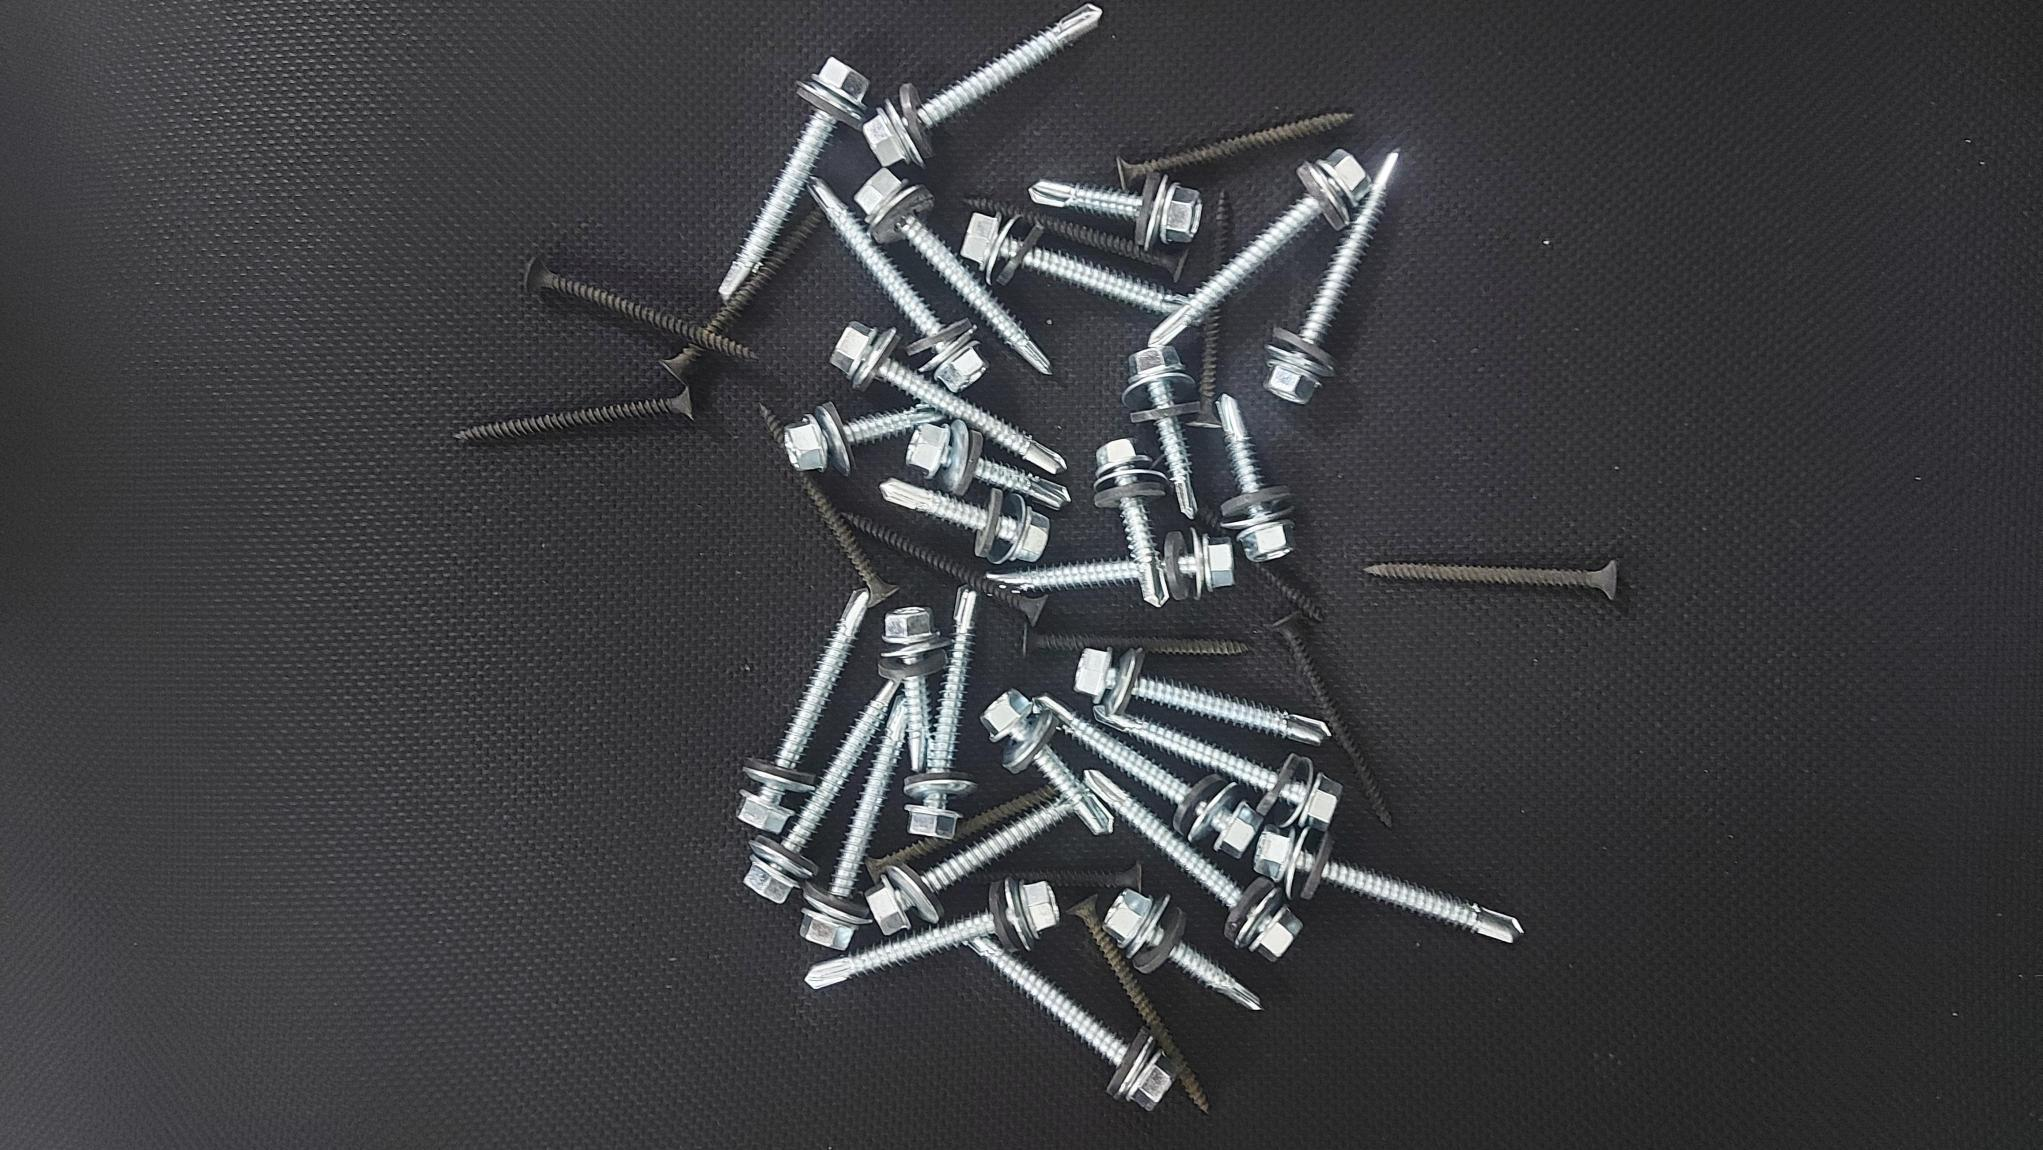Screw: (1148, 149, 1369, 344), (1085, 771, 1301, 961), (855, 168, 1050, 374), (862, 6, 1100, 165), (810, 180, 986, 391), (1036, 696, 1261, 855), (831, 323, 1065, 474), (970, 938, 1176, 1109), (718, 57, 864, 297), (745, 682, 898, 902), (1266, 151, 1398, 402), (1253, 823, 1525, 944), (738, 590, 873, 833), (1096, 710, 1341, 826), (805, 879, 1061, 987), (867, 802, 1076, 934), (801, 698, 906, 949), (1073, 648, 1329, 745), (958, 213, 1187, 314), (981, 689, 1113, 834), (1100, 889, 1260, 1008), (904, 588, 978, 839), (906, 419, 1069, 508), (880, 478, 1047, 562), (1029, 172, 1203, 248), (1217, 395, 1295, 562), (1094, 438, 1170, 604), (1123, 346, 1195, 517), (782, 401, 943, 473), (878, 607, 949, 771), (991, 560, 1144, 592), (1160, 532, 1233, 599), (1073, 648, 1078, 649)
black screw: (1072, 900, 1210, 1112), (1268, 611, 1391, 826), (523, 254, 753, 359), (455, 344, 704, 440), (843, 513, 1045, 623), (963, 196, 1188, 280), (866, 785, 1059, 879), (1117, 114, 1353, 189), (787, 467, 897, 602), (704, 208, 822, 332), (455, 388, 690, 440), (1364, 560, 1615, 600), (1021, 625, 1247, 656), (1247, 561, 1323, 621), (995, 861, 1141, 891), (1187, 306, 1222, 426), (659, 345, 703, 393), (1210, 191, 1232, 265), (758, 402, 784, 456), (1195, 506, 1225, 534)
